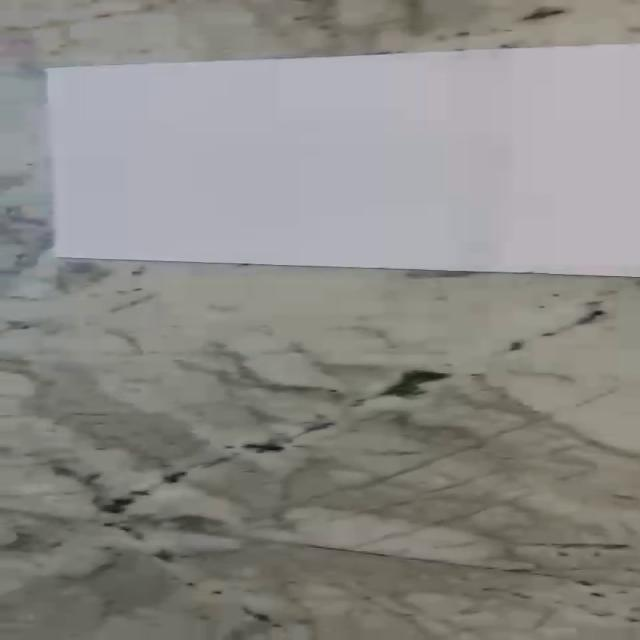road: (44, 43, 640, 278)
